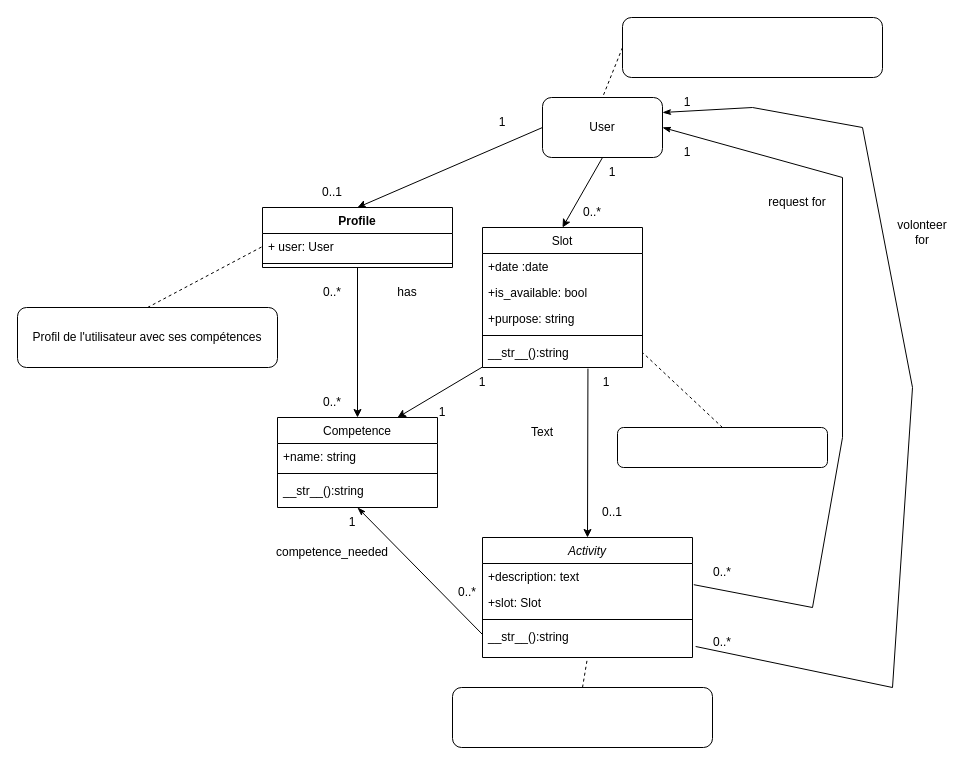
Image size: 970x765. Some labels were removed from this diagram. The centre of each missing label's shape, as x and y in pixels:
Activité liée à un créneau: (582,717)
Créneau de disponibilité ou demandé: (722,447)
Utilisateur fourni de Django: (752,47)
